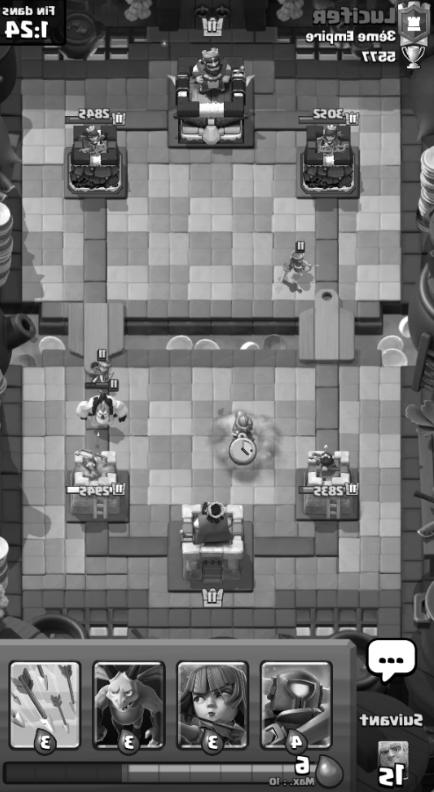archere: (280, 250, 312, 286), (233, 414, 253, 441), (90, 356, 110, 380)
